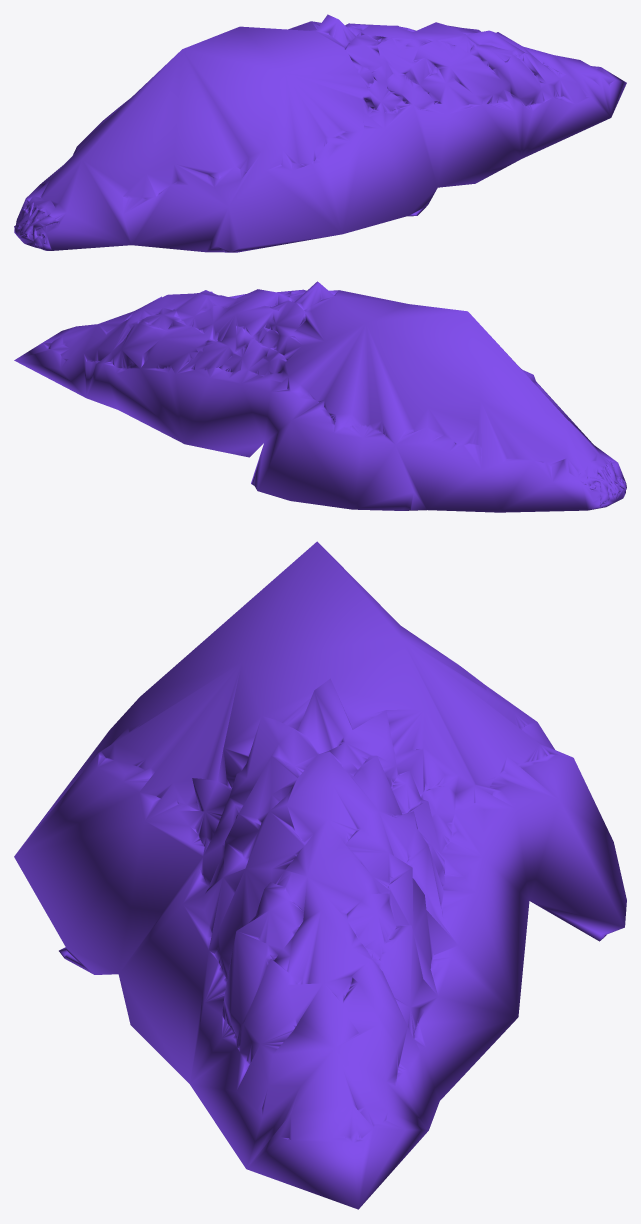
The model's file is suction-ar.glb.
3 renders of one model, top to bottom at view 1: azimuth 30°, elevation 25°; view 2: azimuth 150°, elevation 25°; view 3: azimuth 270°, elevation 25°, orthographic. The views are drawn at different scales.
Size of the model in its own units: 0.2926 by 0.0716 by 0.142.
